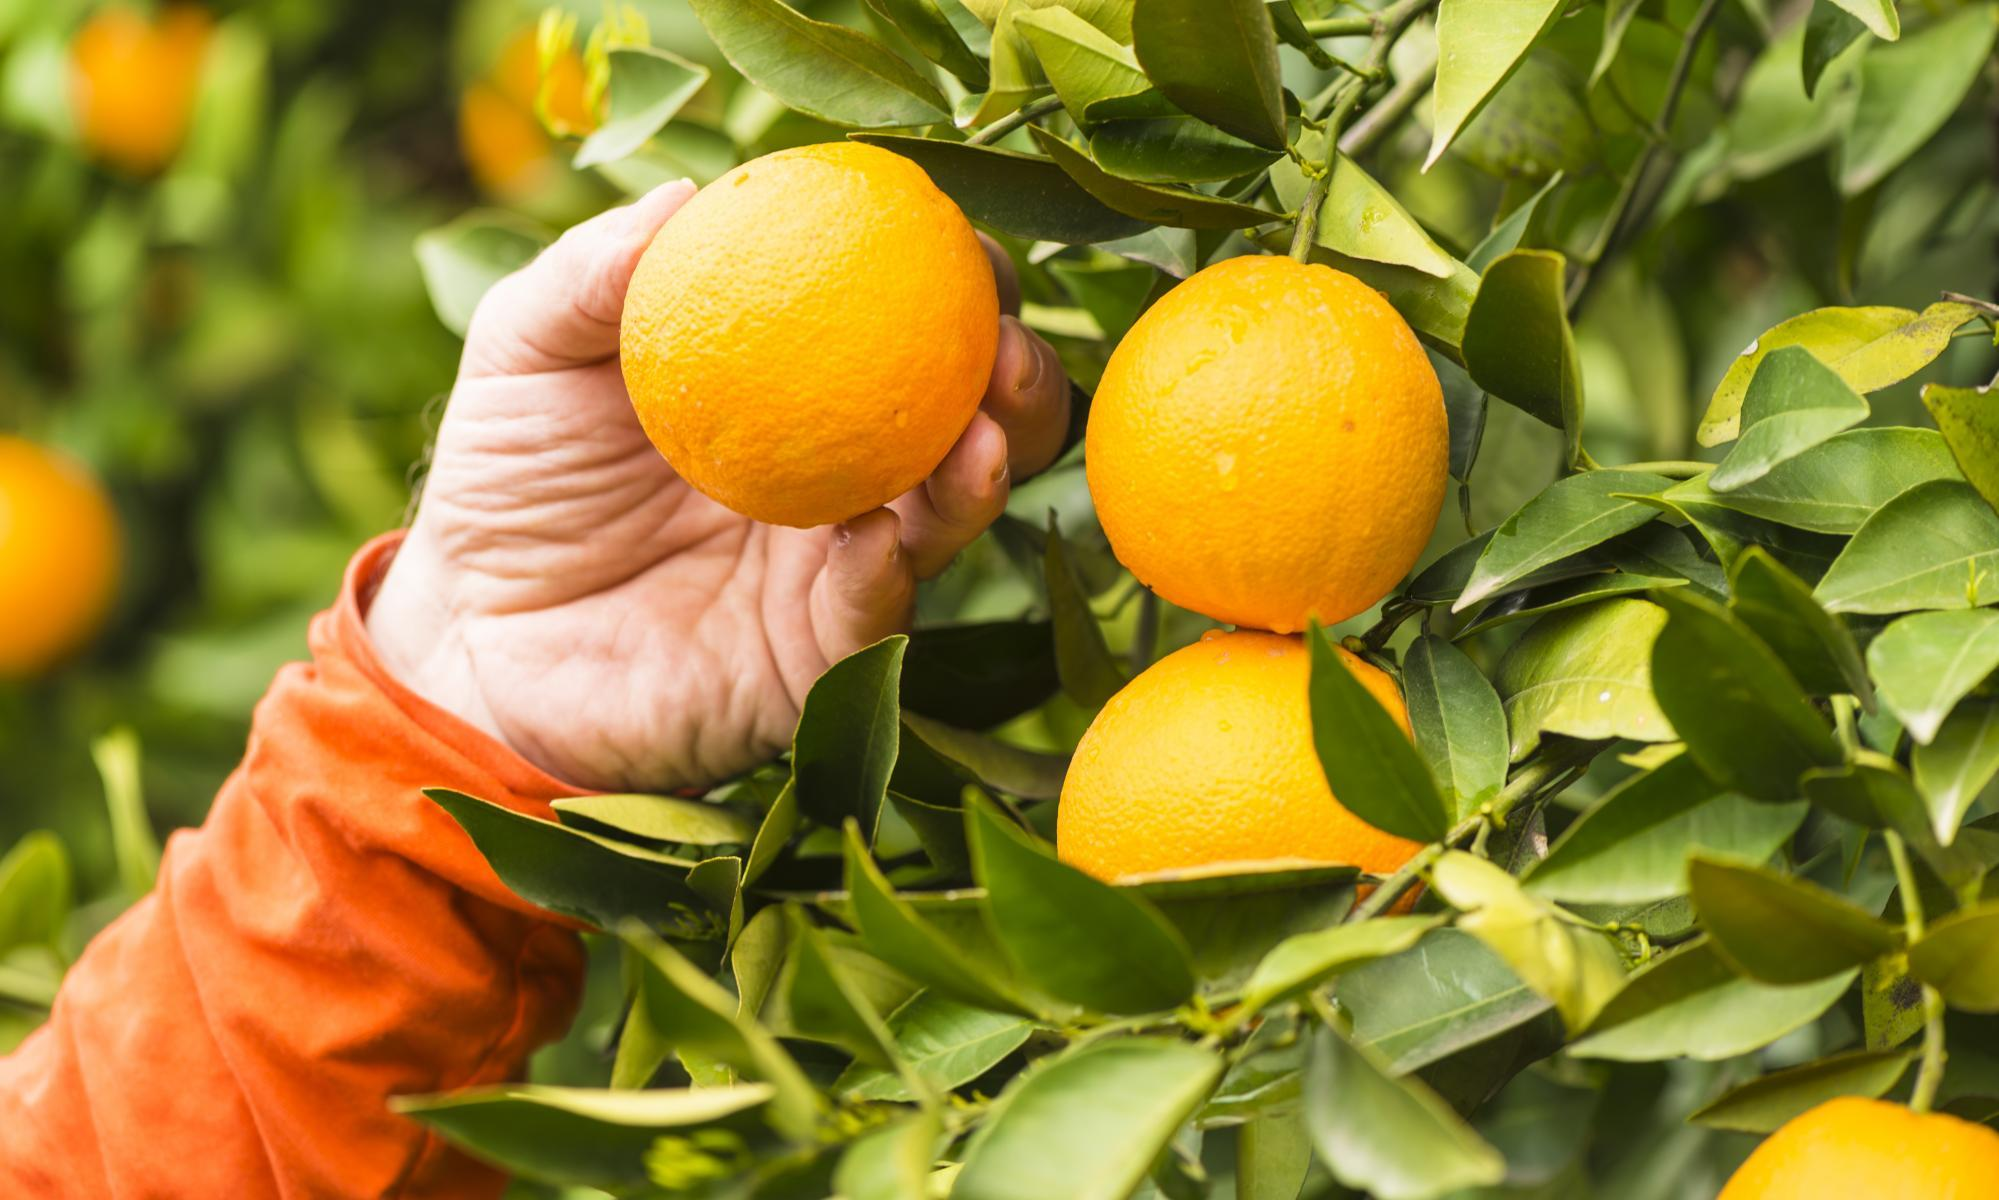orange: (1018, 616, 1498, 1048), (607, 133, 1030, 540), (1074, 230, 1458, 657)
